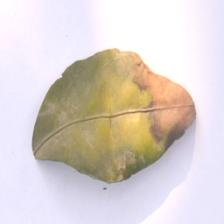black spot: (126, 30, 207, 159)
